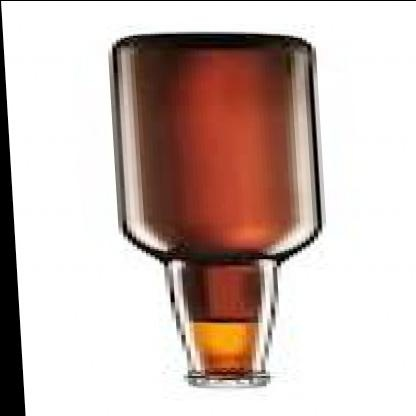trash: (112, 34, 321, 383)
